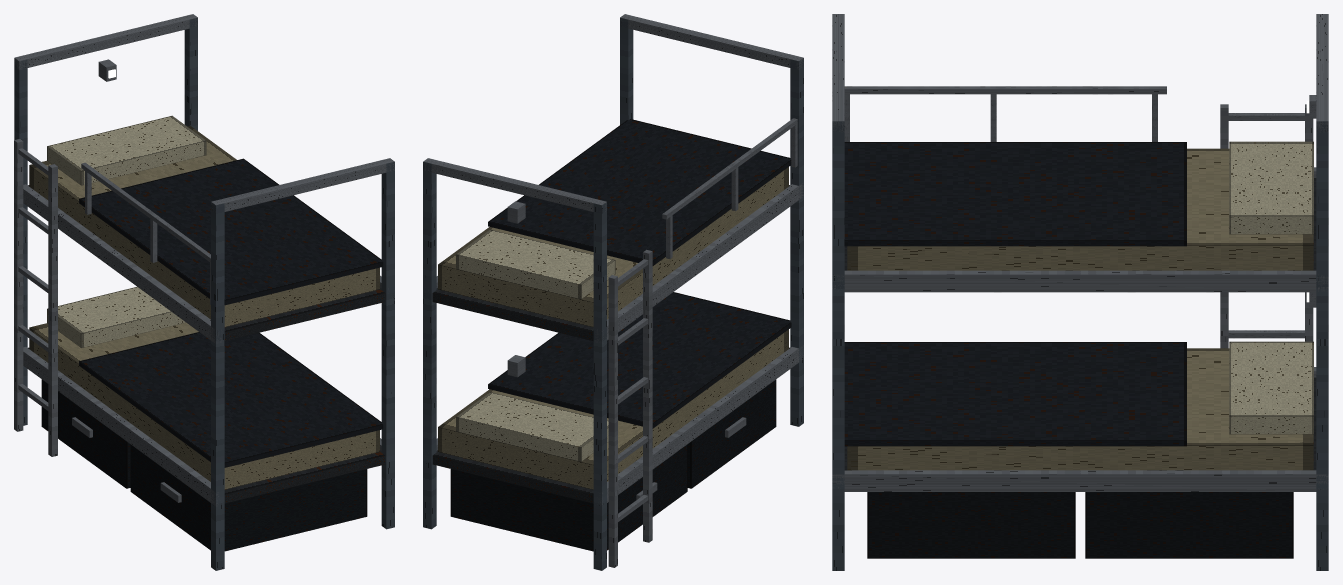
File: bunk_bed_medbay_clean.glb
3 renders of one model, left to right at view 1: azimuth 30°, elevation 25°; view 2: azimuth 150°, elevation 25°; view 3: azimuth 270°, elevation 25°, orthographic. The views are drawn at different scales.
Parts seen in each view (by area): view 1: bunk_bed_medbay_clean; view 2: bunk_bed_medbay_clean; view 3: bunk_bed_medbay_clean.
Part boxes in pixels (bbox=[...]): bunk_bed_medbay_clean: bbox=[14, 14, 394, 570]; bunk_bed_medbay_clean: bbox=[423, 14, 803, 570]; bunk_bed_medbay_clean: bbox=[832, 14, 1328, 570].
Size of the model in its own units: 1.09 by 2.05 by 2.05.
6 materials, 6 textured.
